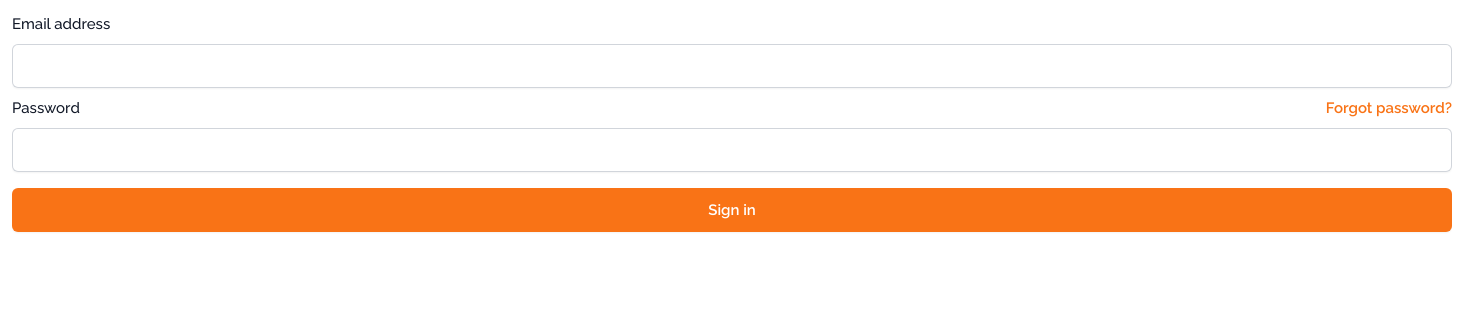
Scenario: LoginForm Component › Form submission tests › should display an error message when the user submits an invalid email address
# Simulate user input
Type "test@fakeexample.com" into the field labelled "Email address" at (732, 66), box [12,44,1452,88]
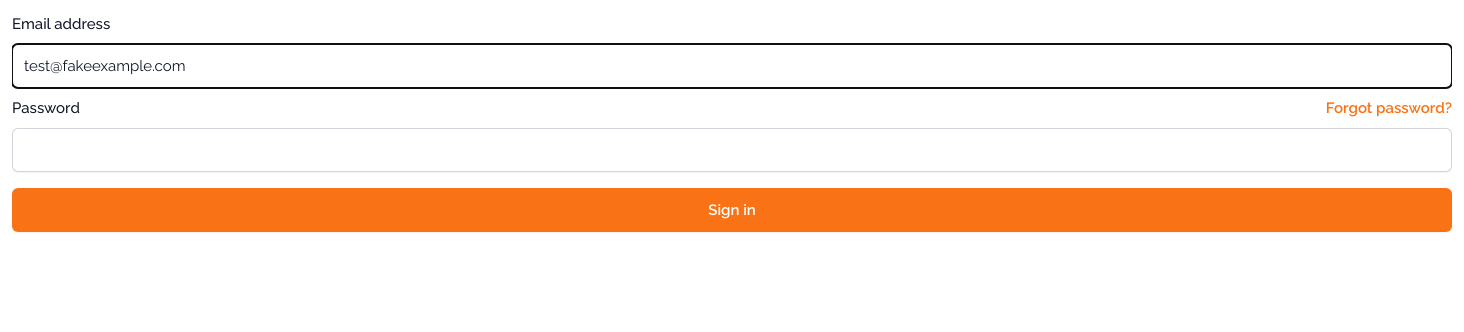
Type "Test1234" into the password field labelled "Password" at (732, 150), box [12,128,1452,172]
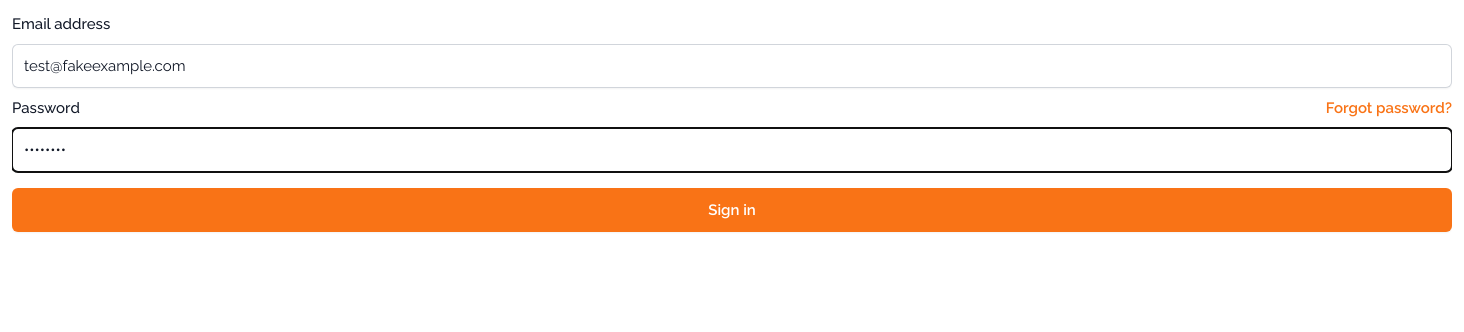
Click the button "Sign in" at (732, 210), box [12,188,1452,232]
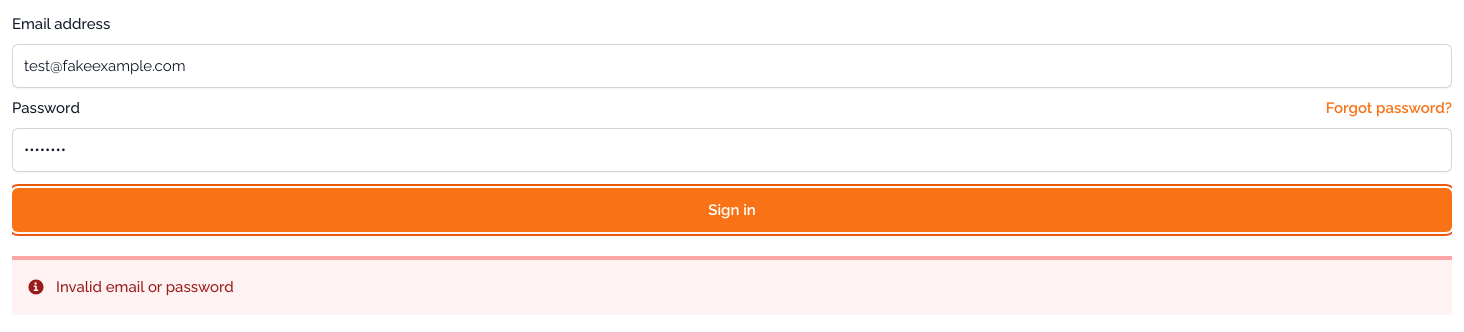
Now the text "Invalid email or password" is shown, box [56,276,234,298]
